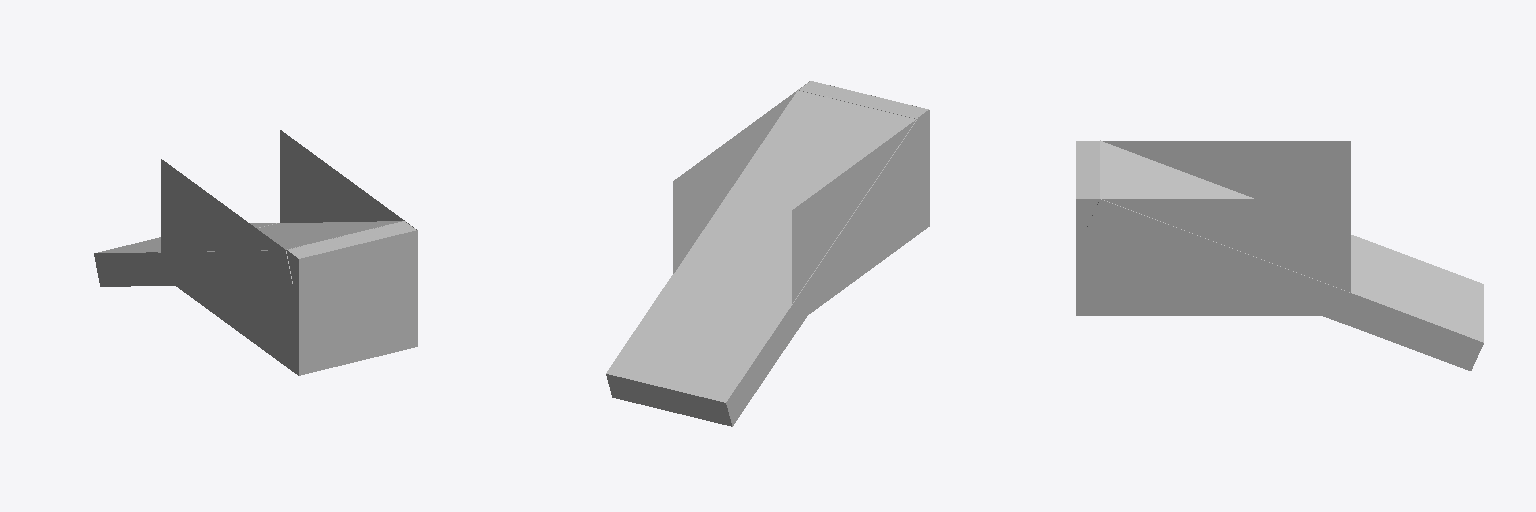
Rendered from telhado_diagonal.obj.
3 renders of one model, left to right at view 1: azimuth 30°, elevation 25°; view 2: azimuth 150°, elevation 25°; view 3: azimuth 270°, elevation 25°, orthographic.
Visible parts, largest first — view 1: Block1, Block; view 2: Block, Block1; view 3: Block1, Block.
Part boxes in pixels (left/top/right/bottom): Block1: left=161, top=130, right=417, bottom=375; Block: left=94, top=221, right=415, bottom=286; Block: left=606, top=81, right=928, bottom=426; Block1: left=673, top=81, right=929, bottom=313; Block1: left=1076, top=141, right=1350, bottom=315; Block: left=1076, top=140, right=1483, bottom=370.
Bounding box in the file's own units: 1.01 × 1.39 × 2.97.